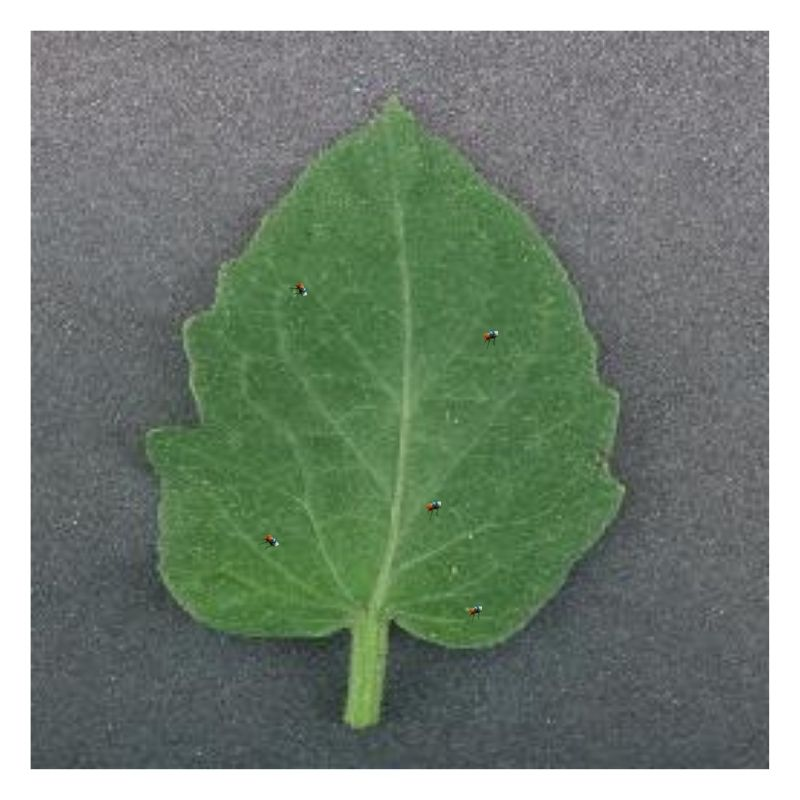liriomyza: (479, 326, 501, 345), (288, 281, 309, 298), (264, 531, 282, 550), (464, 601, 484, 617), (424, 499, 444, 514)
